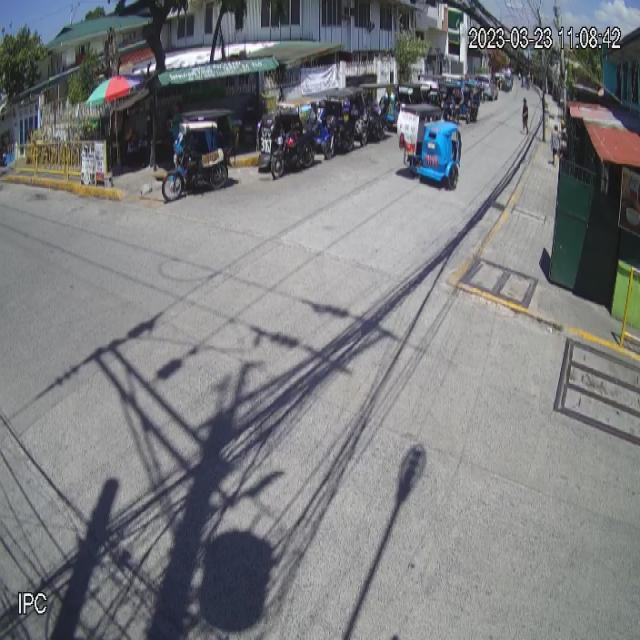Tricycle: (396, 102, 462, 190)
